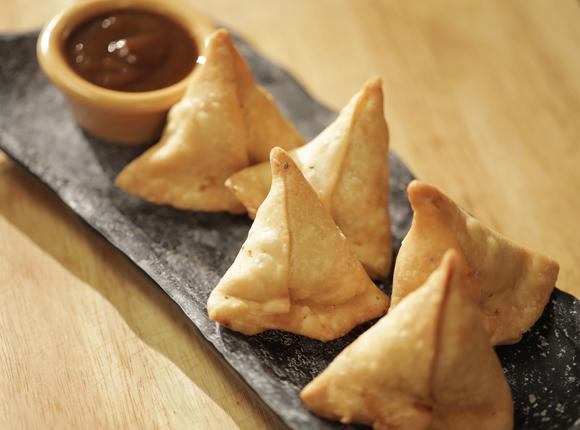samosa: (300, 249, 513, 429), (116, 29, 305, 214), (207, 147, 386, 339), (391, 180, 558, 345), (289, 77, 391, 280), (330, 76, 392, 280)
